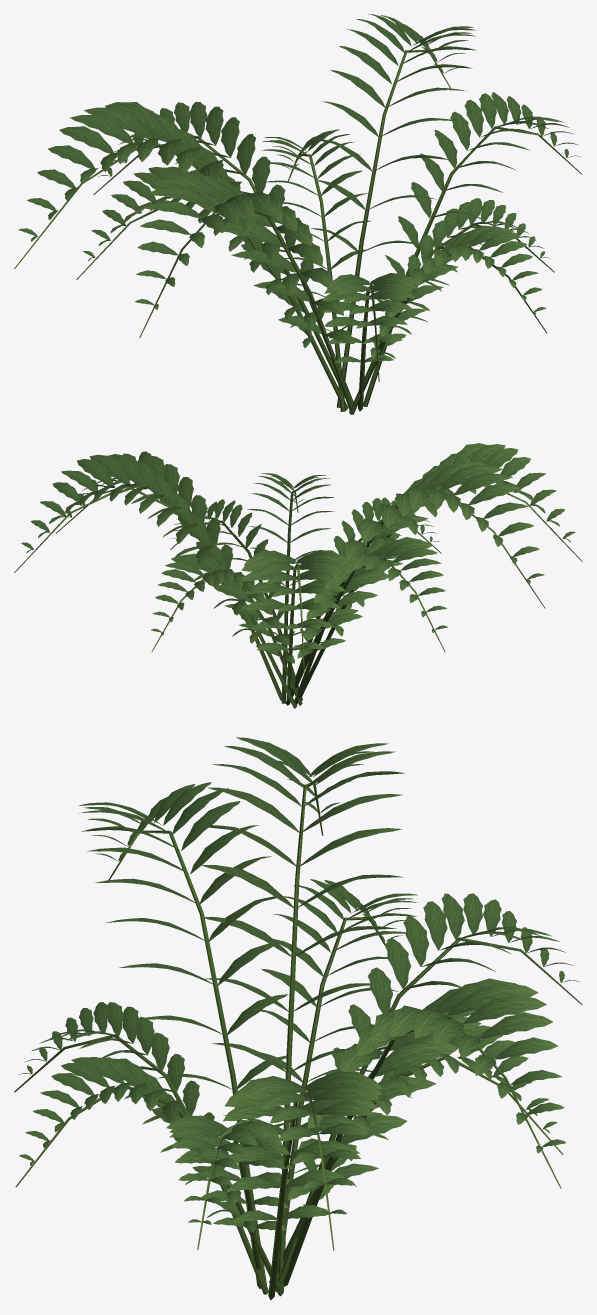
The model's file is LadyFern_C.fbx.
3 views of the same model, one above another, from view 1: azimuth 30°, elevation 25°; view 2: azimuth 150°, elevation 25°; view 3: azimuth 270°, elevation 25° (orthographic). The views are drawn at different scales.
Parts seen in each view (by area): view 1: LadyFern_C_LOD0; view 2: LadyFern_C_LOD0; view 3: LadyFern_C_LOD0.
Boxes of the visible parts, x1=… form: LadyFern_C_LOD0: x1=14, y1=14, x2=581, y2=414; LadyFern_C_LOD0: x1=14, y1=443, x2=582, y2=708; LadyFern_C_LOD0: x1=14, y1=737, x2=582, y2=1300.
Size of what is drawn, in the model's own units: 66.88 by 36.19 by 45.35.
1 material, 1 textured.
